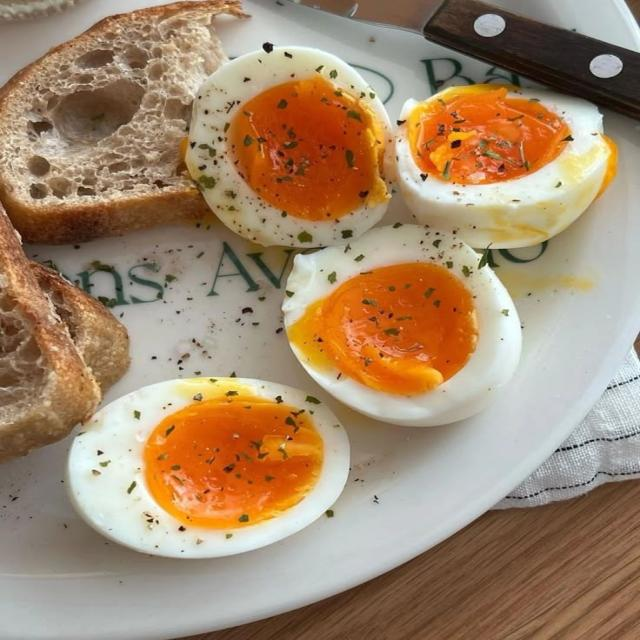egg boiled: (67, 378, 349, 557), (283, 224, 520, 426), (186, 46, 393, 246), (396, 85, 616, 248)
sliced bread: (0, 0, 247, 243), (0, 207, 100, 462), (30, 262, 128, 392)
